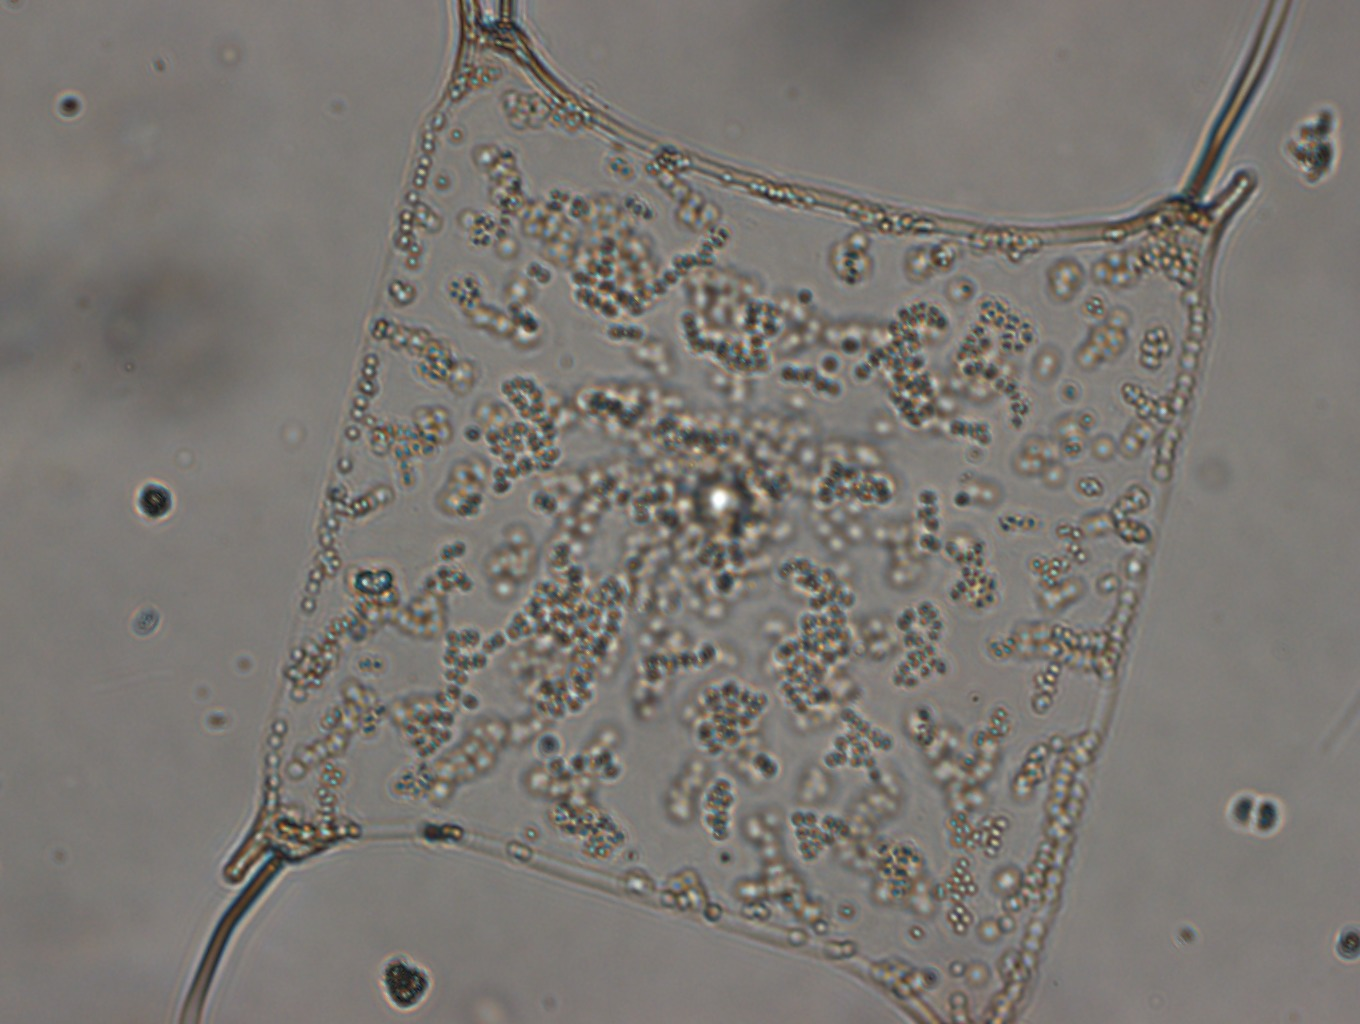biddulphia: (182, 8, 1292, 1024)
